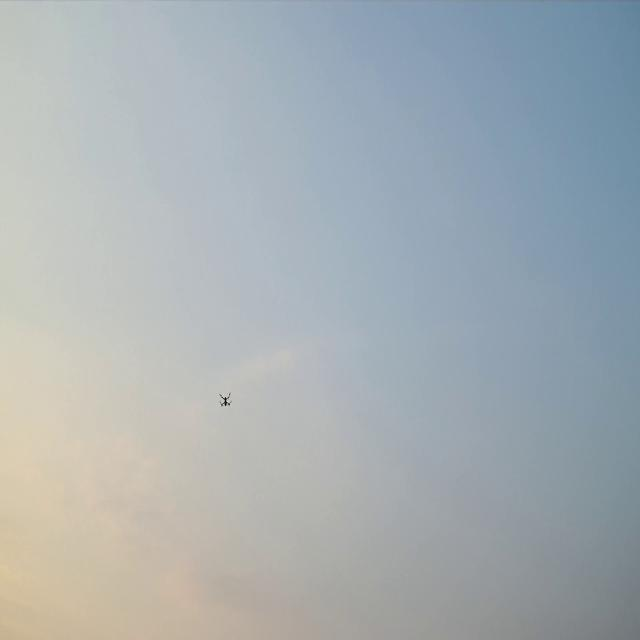UAV: (221, 396, 230, 406)
